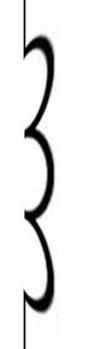inductor: (11, 28, 69, 316)
